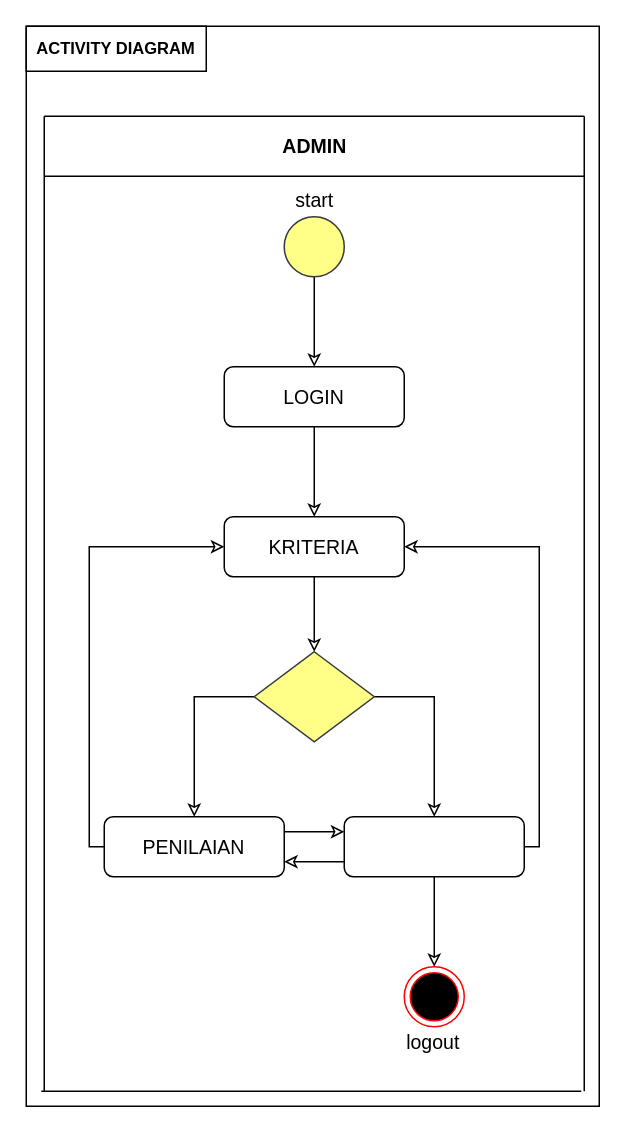
Some shapes in this 626 by 1133 pixel diagram are drawn without their labels. Each missing label, with the centre of its shape:
KEPUTUSAN: point (433, 846)
PILIH: point (313, 696)
